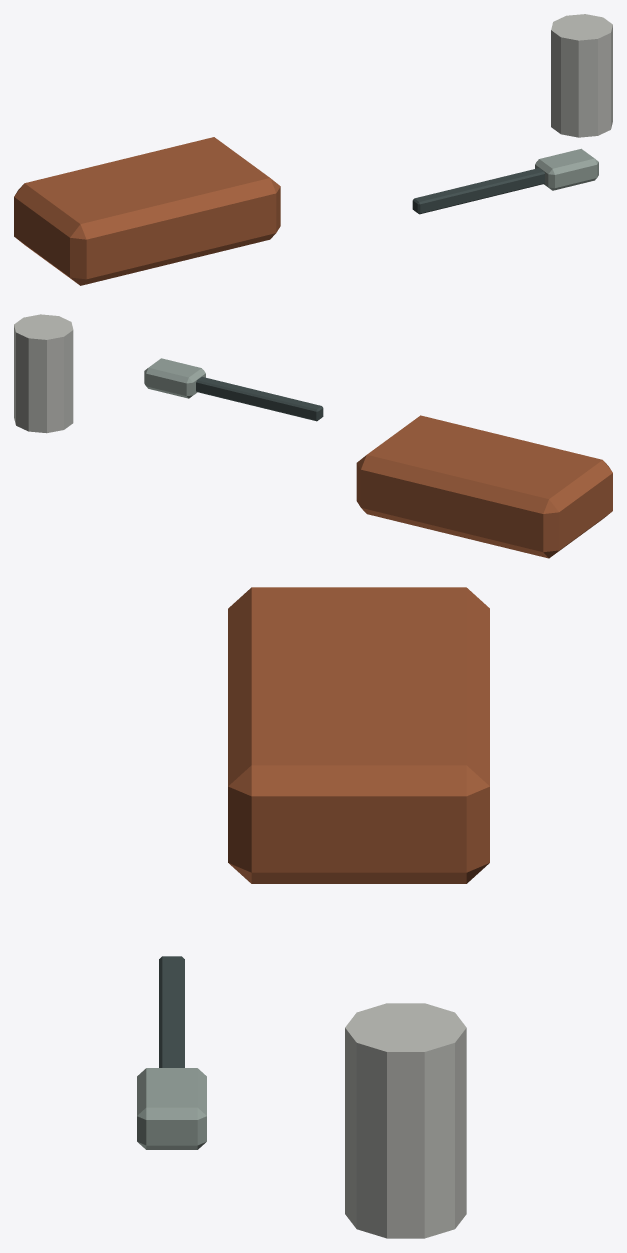
Rendered from Bench_Tools.glb.
3 views of the same model, one above another, from view 1: azimuth 30°, elevation 25°; view 2: azimuth 150°, elevation 25°; view 3: azimuth 270°, elevation 25° (orthographic). The views are drawn at different scales.
Visible parts, largest first — view 1: Bench_Tools; view 2: Bench_Tools; view 3: Bench_Tools.
Boxes of the visible parts, x1=… form: Bench_Tools: x1=14, y1=14, x2=612, y2=285; Bench_Tools: x1=14, y1=314, x2=612, y2=558; Bench_Tools: x1=137, y1=587, x2=489, y2=1238.
Bounding box in the file's own units: 1.37 × 0.22 × 0.3775.
